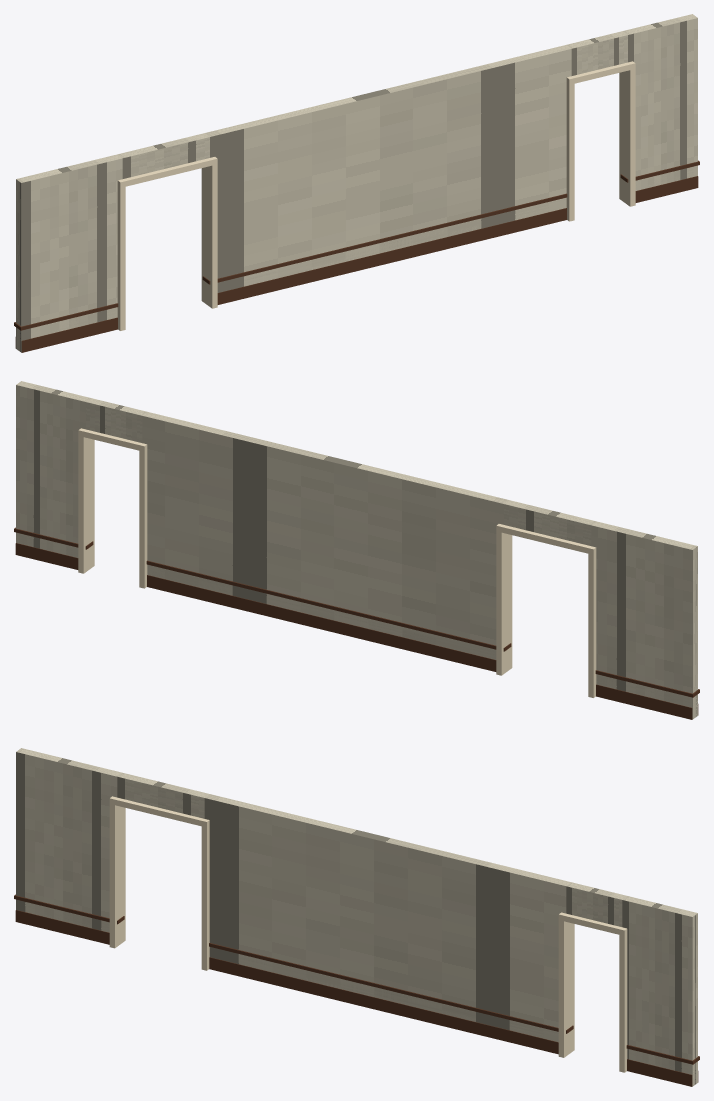
Rendered from hall_front.glb.
3 views of the same model, one above another, from view 1: azimuth 30°, elevation 25°; view 2: azimuth 150°, elevation 25°; view 3: azimuth 330°, elevation 25° (orthographic).
Parts seen in each view (by area): view 1: Box3, Box1, Box5, Box4, Box17, Box10, Box7, Box13, Box8, Box18, Box9, Box12 (+4 smaller); view 2: Box3, Box1, Box5, Box4, Box17, Box10, Box7, Box13, Box8, Box18, Box9, Box12 (+4 smaller); view 3: Box3, Box1, Box5, Box4, Box17, Box9, Box7, Box12, Box8, Box18, Box10, Box13 (+5 smaller).
Boxes of the visible parts, x1=… form: Box3: x1=205, y1=45, x2=571, y2=292; Box1: x1=16, y1=154, x2=122, y2=352; Box5: x1=623, y1=14, x2=697, y2=190; Box4: x1=217, y1=208, x2=566, y2=304; Box17: x1=217, y1=198, x2=566, y2=292; Box10: x1=201, y1=157, x2=217, y2=308; Box7: x1=117, y1=133, x2=209, y2=178; Box13: x1=619, y1=61, x2=635, y2=206; Box8: x1=566, y1=31, x2=627, y2=75; Box18: x1=202, y1=193, x2=567, y2=284; Box9: x1=117, y1=179, x2=125, y2=330; Box12: x1=566, y1=76, x2=574, y2=221; Box3: x1=142, y1=412, x2=508, y2=659; Box1: x1=591, y1=521, x2=697, y2=719; Box5: x1=16, y1=381, x2=90, y2=557; Box4: x1=147, y1=575, x2=496, y2=671; Box17: x1=147, y1=565, x2=496, y2=659; Box10: x1=496, y1=524, x2=512, y2=675; Box7: x1=504, y1=500, x2=596, y2=545; Box13: x1=78, y1=428, x2=94, y2=573; Box8: x1=86, y1=398, x2=147, y2=442; Box18: x1=146, y1=560, x2=511, y2=651; Box9: x1=588, y1=546, x2=596, y2=697; Box12: x1=139, y1=443, x2=147, y2=588; Box3: x1=204, y1=794, x2=571, y2=1041; Box1: x1=16, y1=748, x2=122, y2=932; Box5: x1=622, y1=896, x2=697, y2=1086; Box4: x1=209, y1=957, x2=558, y2=1054; Box17: x1=209, y1=947, x2=558, y2=1041; Box9: x1=109, y1=796, x2=125, y2=948; Box7: x1=117, y1=773, x2=209, y2=818; Box12: x1=558, y1=912, x2=574, y2=1057; Box8: x1=566, y1=882, x2=627, y2=926; Box18: x1=209, y1=943, x2=573, y2=1033; Box10: x1=201, y1=819, x2=209, y2=970; Box13: x1=619, y1=927, x2=627, y2=1072.
Bounding box in the file's own units: 10.89 × 2.6 × 0.3.
Materials: 3 (1 with a texture image).
